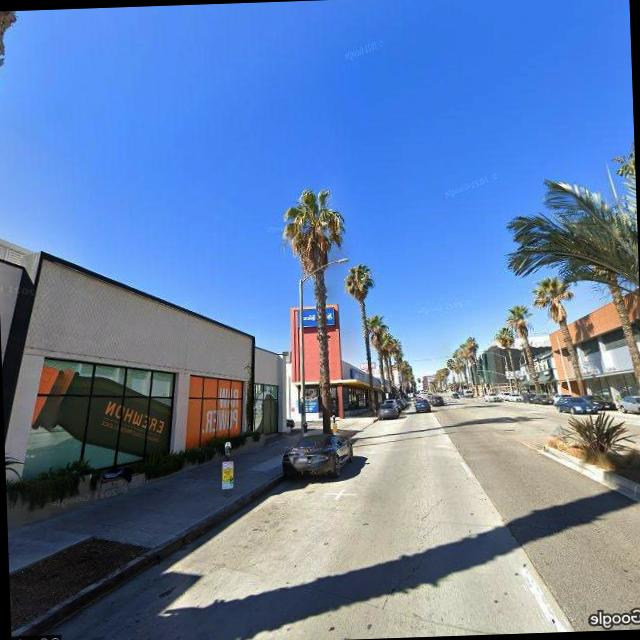crack: (376, 502, 446, 609)
